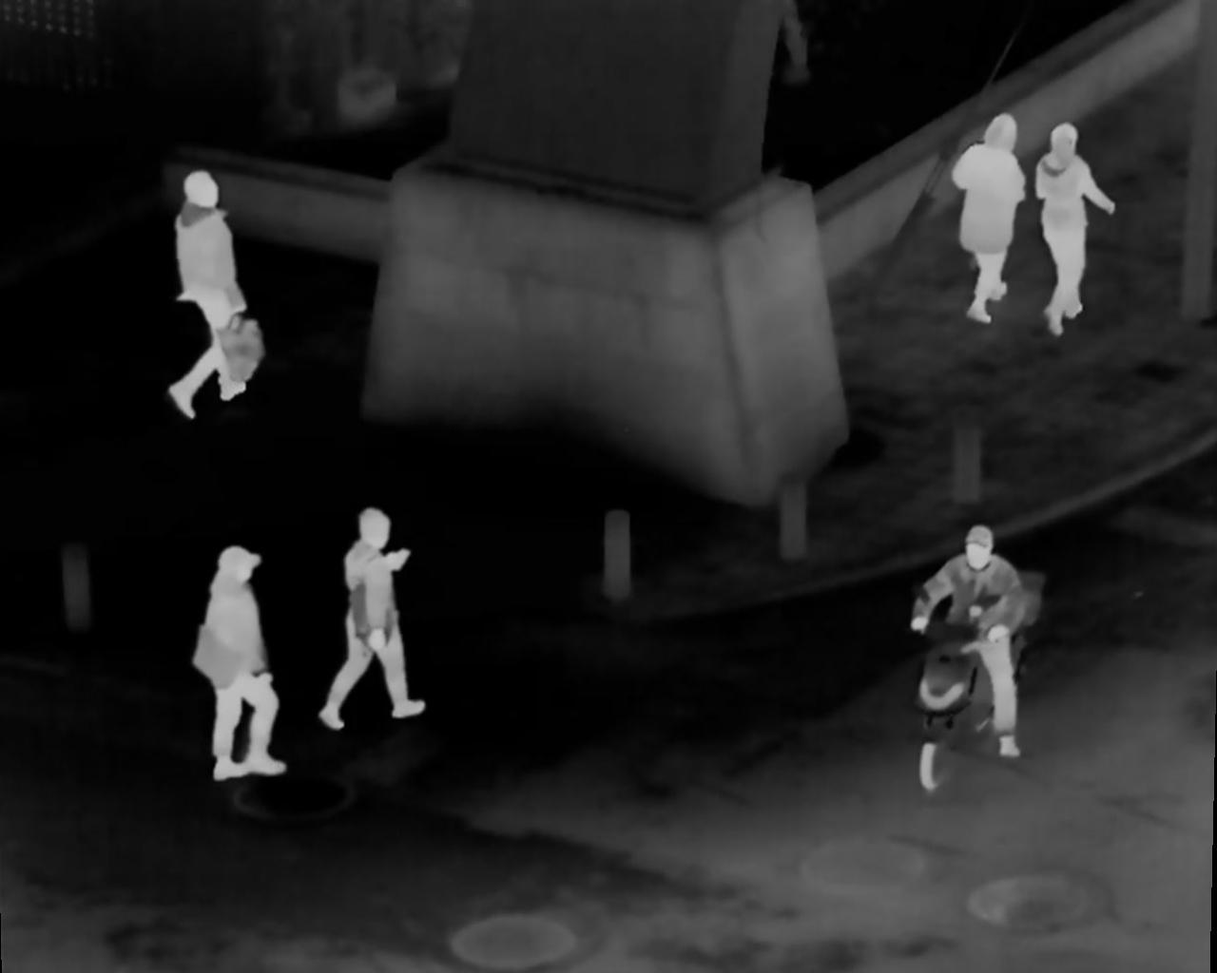person: (915, 525, 1033, 759), (158, 166, 262, 421), (321, 506, 424, 733), (188, 546, 285, 777), (1027, 126, 1108, 337), (953, 117, 1030, 318)
